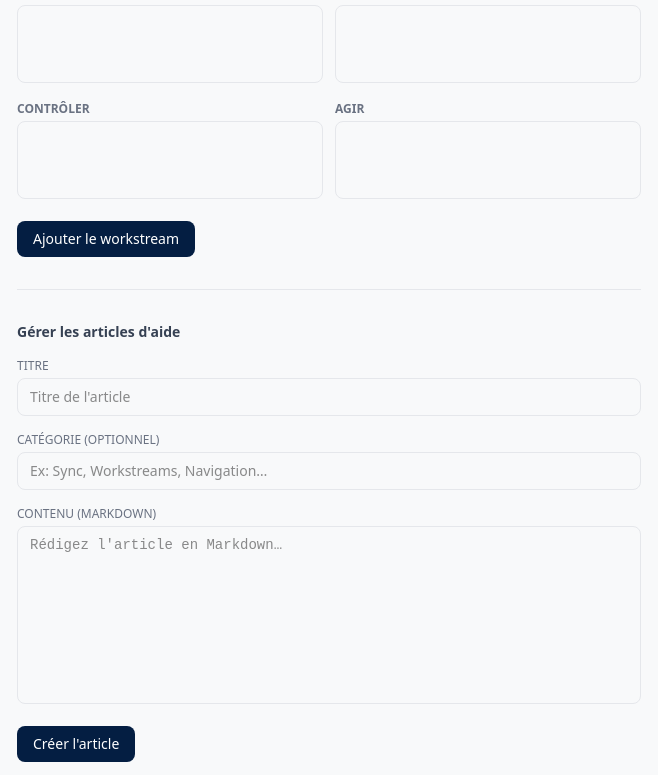
it: Admin page — Issue #18 › shows validation error when submitting help article with no title
(page scrolled)
Click the button "Créer l'article" at (76, 744), box [17, 726, 135, 762]
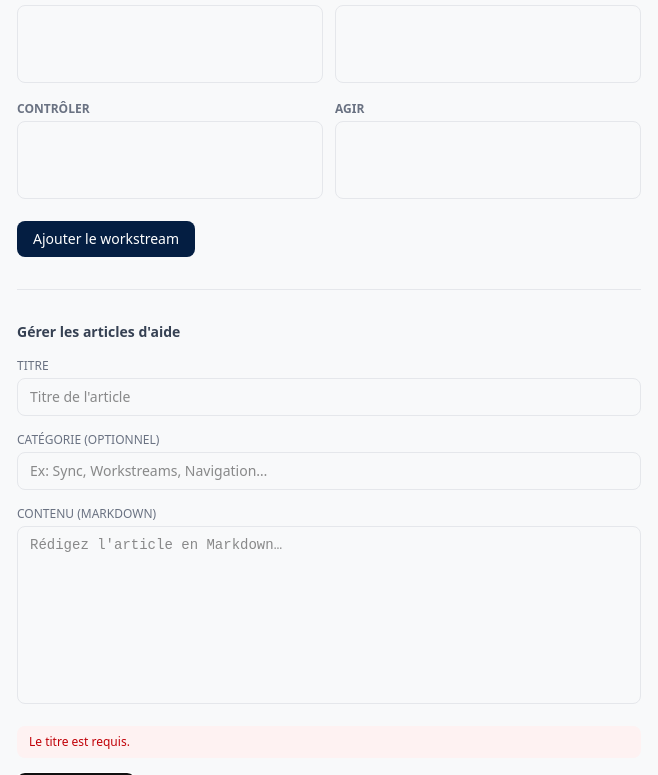
Now the text "Le titre est requis." is shown, box [17, 726, 641, 758]
